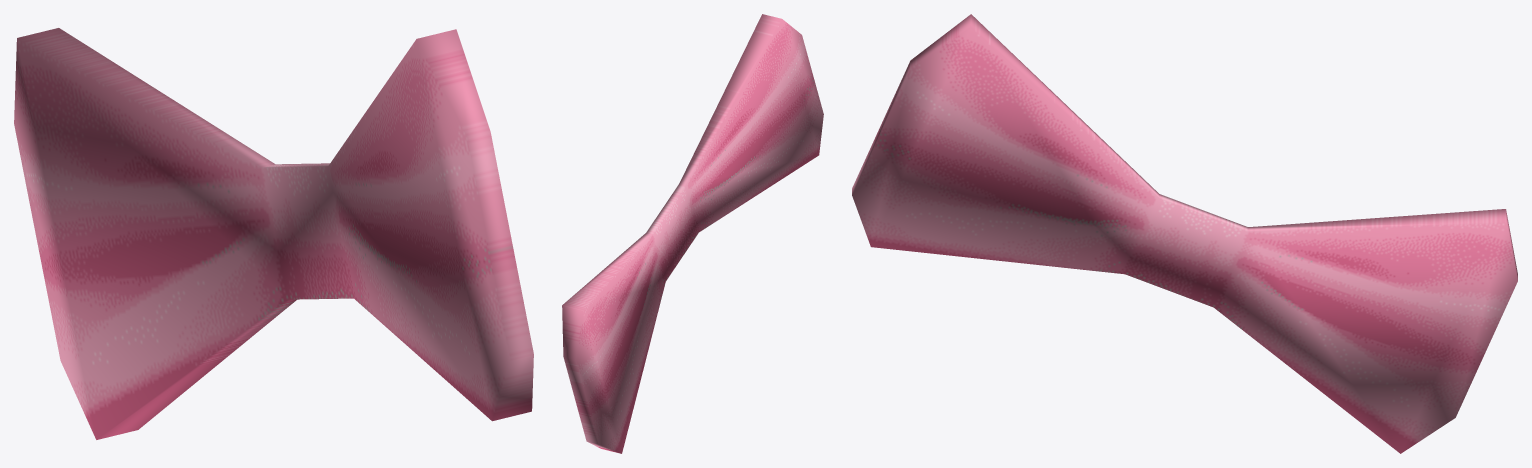
Rendered from Pink_Bow.glb.
3 renders of one model, left to right at view 1: azimuth 30°, elevation 25°; view 2: azimuth 150°, elevation 25°; view 3: azimuth 270°, elevation 25°, orthographic. The views are drawn at different scales.
Parts seen in each view (by area): view 1: Pink Bow; view 2: Pink Bow; view 3: Pink Bow.
Boxes of the visible parts, bbox=[...] form: Pink Bow: bbox=[14, 28, 533, 439]; Pink Bow: bbox=[562, 14, 823, 453]; Pink Bow: bbox=[852, 14, 1517, 453].
Bounding box in the file's own units: 0.068 × 0.6231 × 0.882.
1 material, 1 textured.
